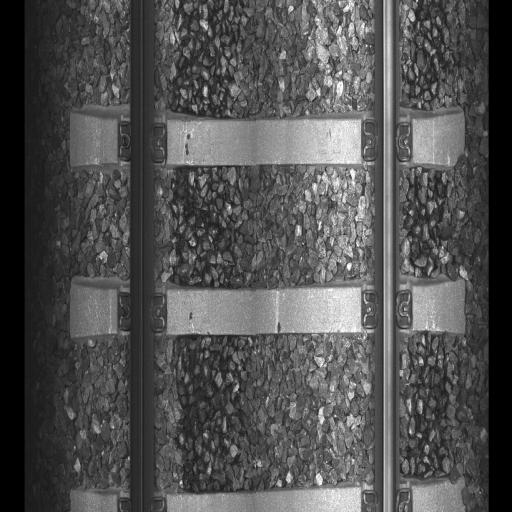sleeper: (67, 276, 466, 340), (67, 108, 467, 170), (71, 482, 463, 510)
